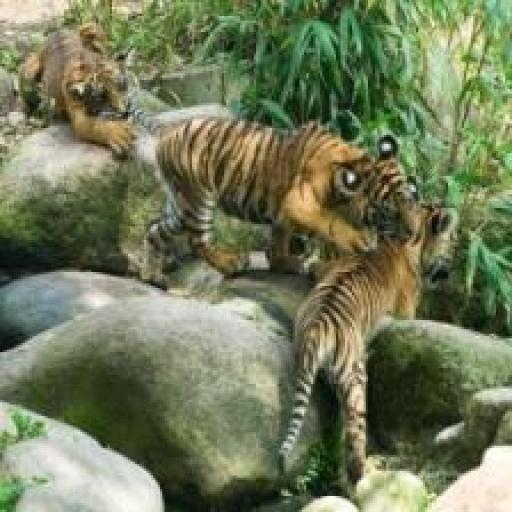Tiger: (28, 23, 465, 507)
